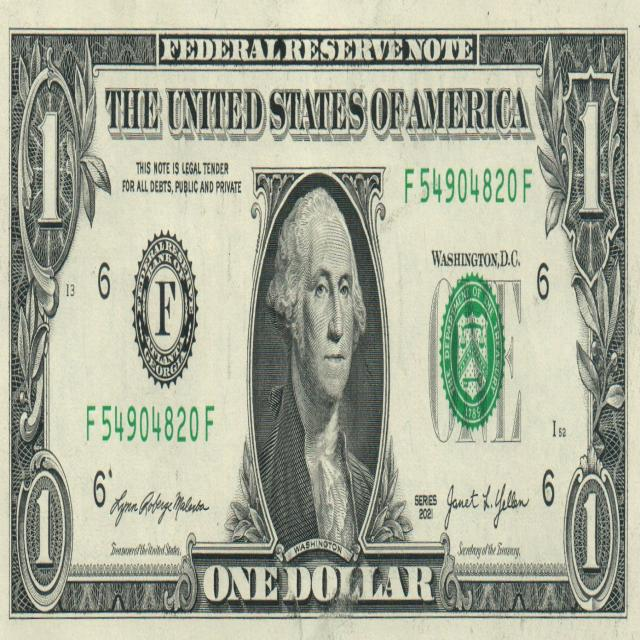SerialNumber: (87, 406, 214, 442), (405, 168, 532, 203)
